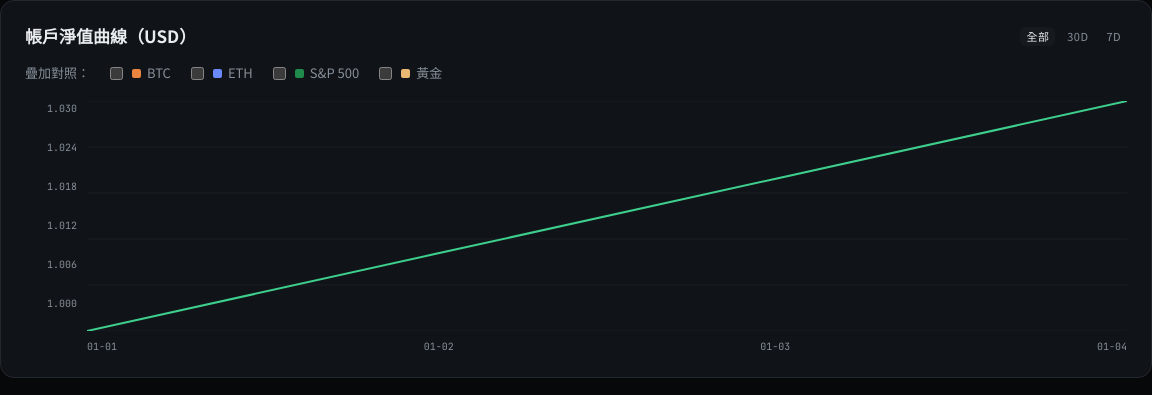
Test: EquityCurve — overlay 疊加對照 › y 軸範圍納入已勾選的 overlay 值（不只主曲線自己的 min/max）
Click the checkbox labelled "BTC".
click(116, 73)  # box left=110, top=67, right=123, bottom=80
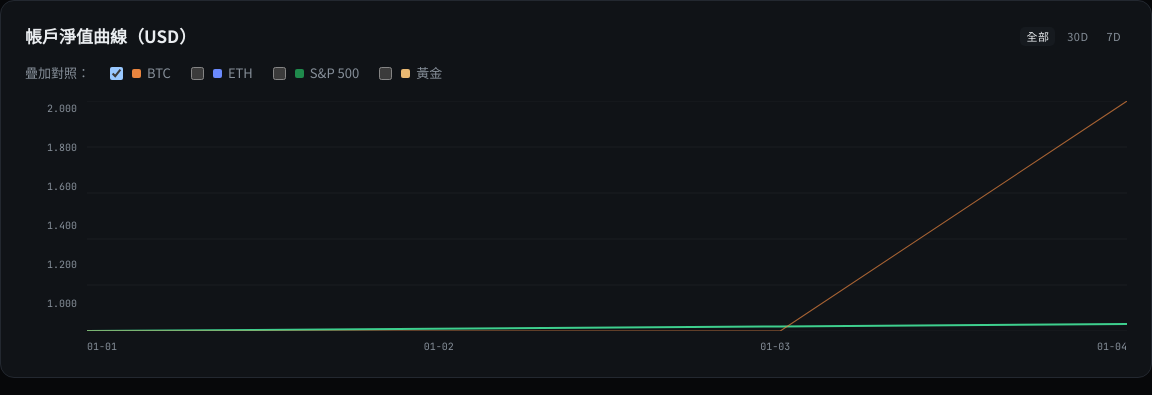
Expected: the text "2.000" is shown, left=47, top=102, right=77, bottom=116
